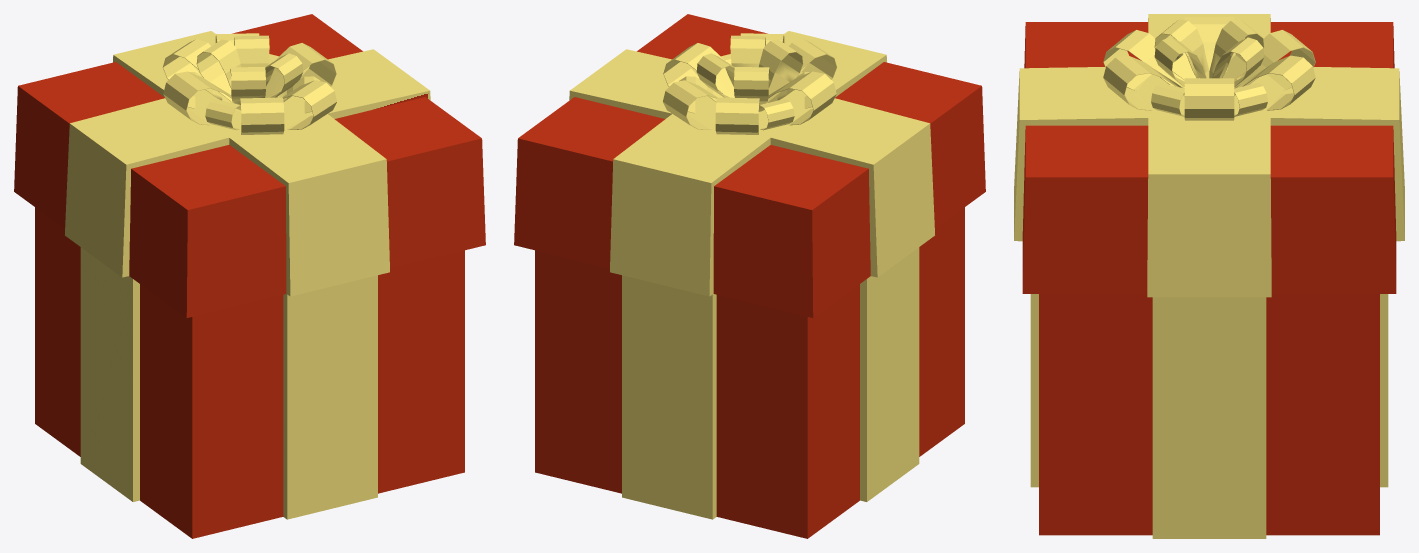
The model's file is Gift.glb.
The picture shows the model from 3 angles, left to right: view 1: azimuth 30°, elevation 25°; view 2: azimuth 150°, elevation 25°; view 3: azimuth 270°, elevation 25°; orthographic projection. The views are drawn at different scales.
Parts seen in each view (by area): view 1: Gift_Top, Gift_Base; view 2: Gift_Top, Gift_Base; view 3: Gift_Top, Gift_Base.
Boxes of the visible parts, bbox=[...] form: Gift_Top: bbox=[14, 14, 485, 317]; Gift_Base: bbox=[35, 207, 464, 538]; Gift_Top: bbox=[514, 14, 985, 317]; Gift_Base: bbox=[535, 207, 964, 538]; Gift_Top: bbox=[1014, 14, 1404, 297]; Gift_Base: bbox=[1030, 294, 1388, 538].
Bounding box in the file's own units: 0.3403 × 0.4105 × 0.3403.
1 material, 1 textured.
